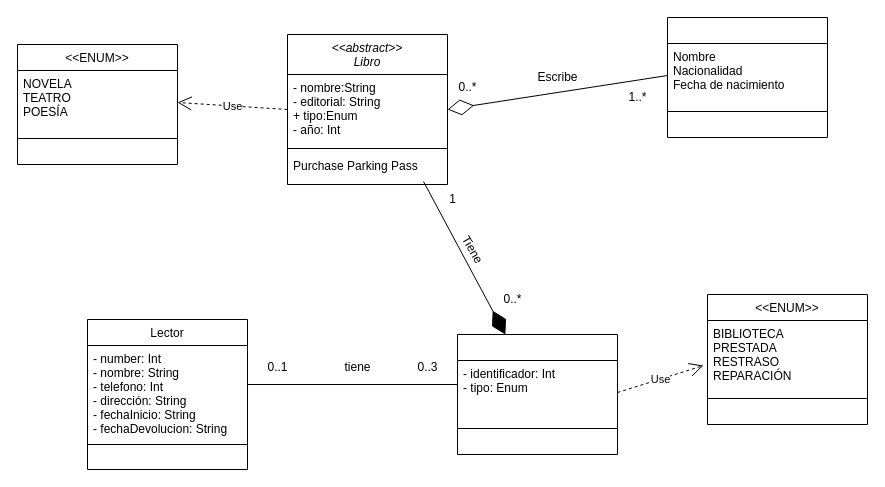
Some shapes in this 885 by 487 pixel diagram are drawn without their labels. The box of each missing label's shape, as (x1, y1, x2, y2) in pixels:
Autor: (666, 16, 828, 138)
Copia: (456, 334, 618, 454)
